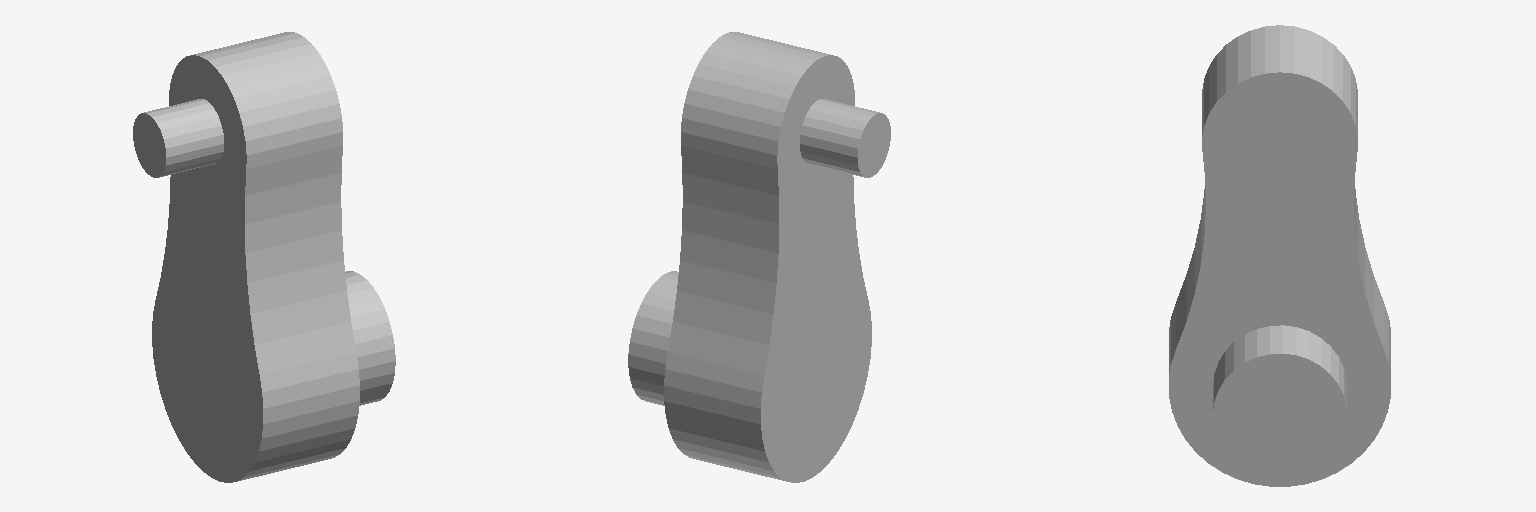
File: crank.obj
3 renders of one model, left to right at view 1: azimuth 30°, elevation 25°; view 2: azimuth 150°, elevation 25°; view 3: azimuth 270°, elevation 25°, orthographic.
Visible parts, largest first — view 1: mesh 1 crank; view 2: mesh 1 crank; view 3: mesh 1 crank.
Boxes of the visible parts, box(x1,y1,x2,y2) form: mesh 1 crank: box(133, 32, 395, 482); mesh 1 crank: box(628, 32, 890, 482); mesh 1 crank: box(1169, 25, 1390, 486).
Bounding box in the file's own units: 0.55 × 1.02 × 0.4991.